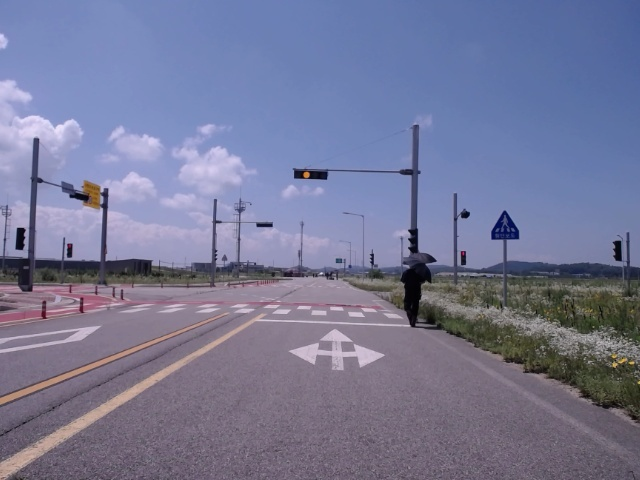orange_4: (294, 170, 329, 180)
